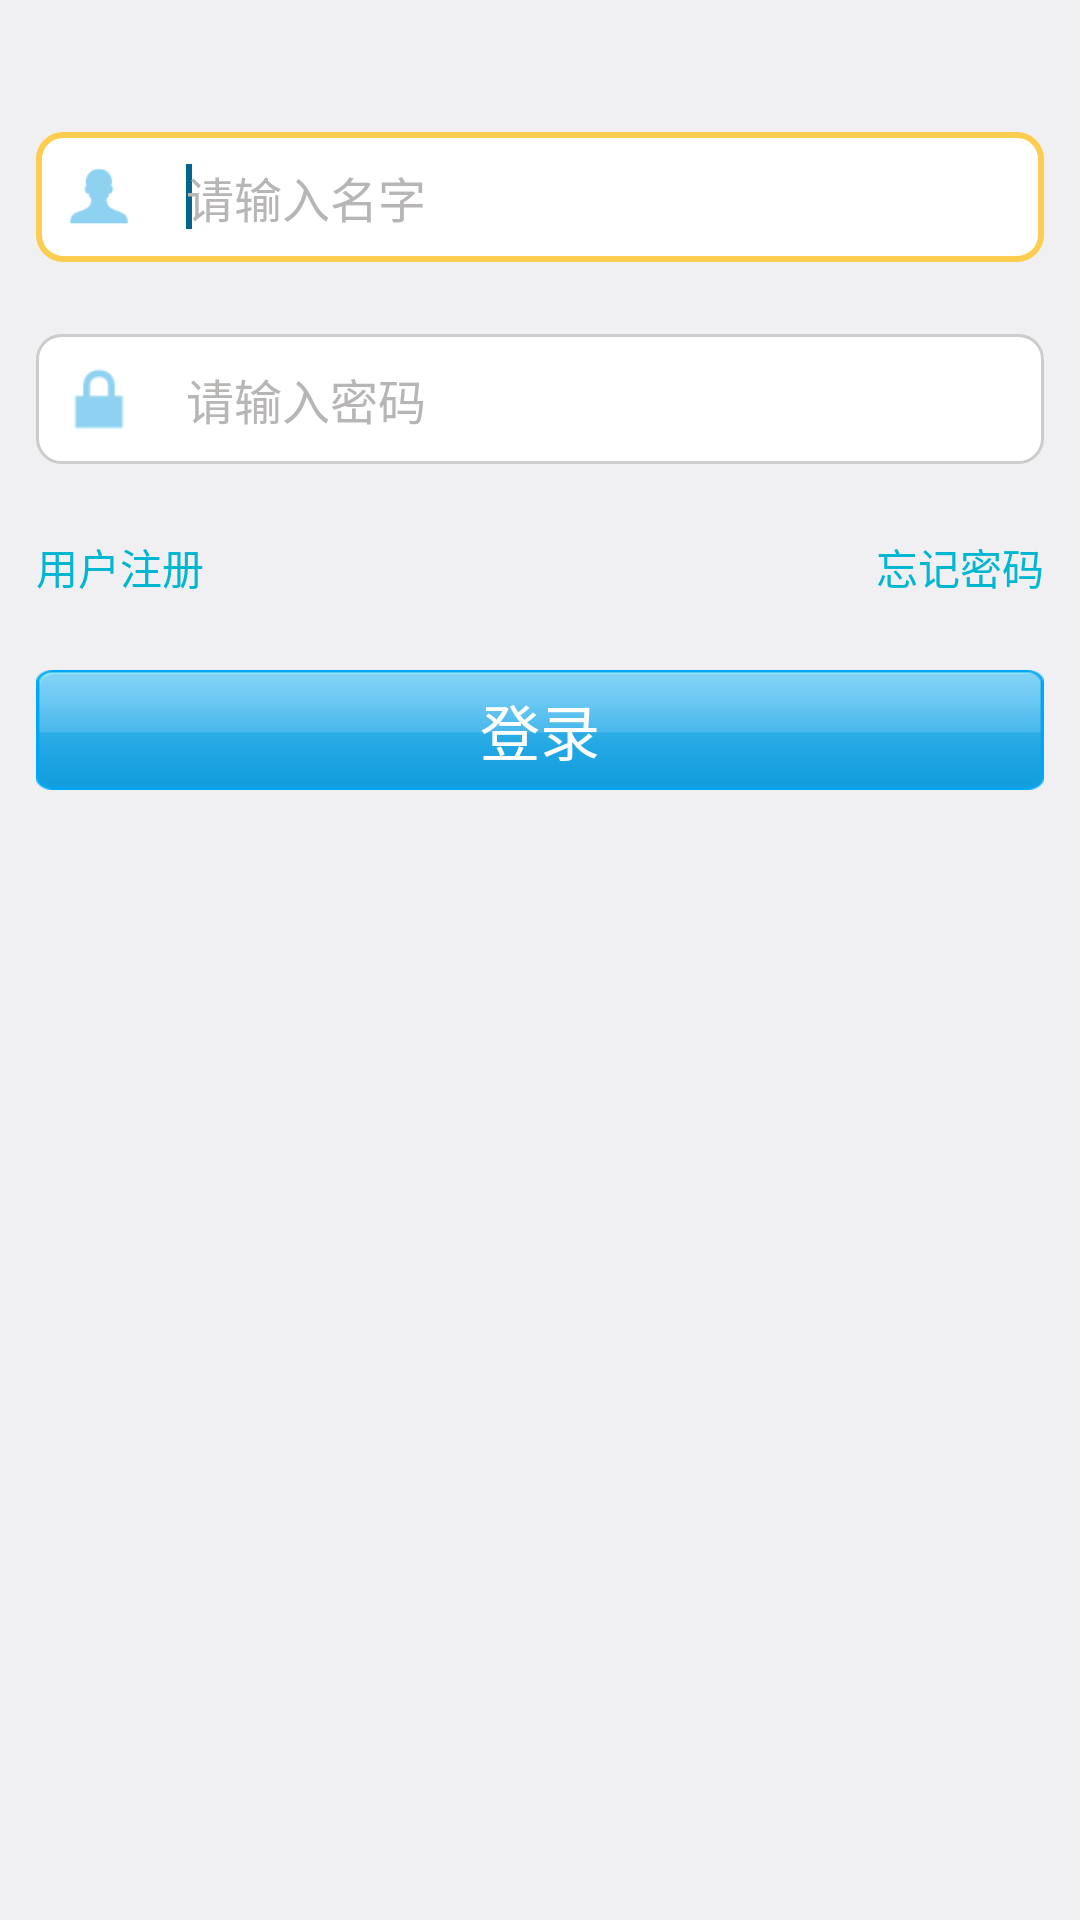

Screen size 1080 × 1920. Icon name, then its box in pixels as (x1, y1, x2, y2):
password: (75, 370, 123, 428)
